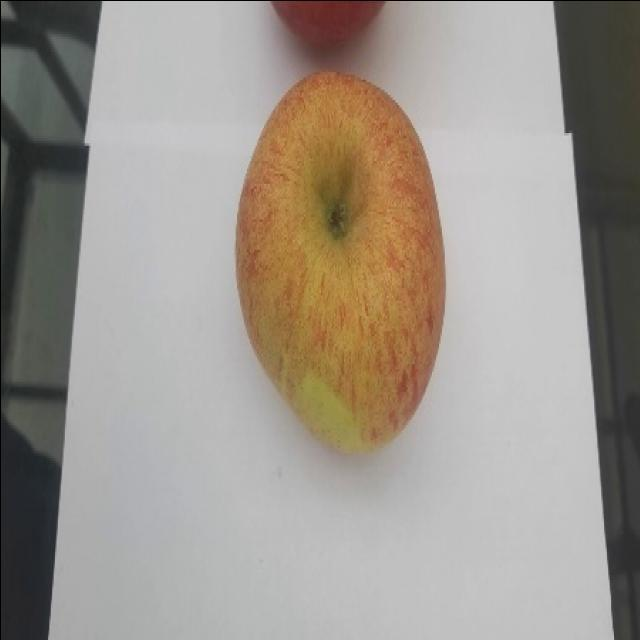Apple: (234, 69, 446, 455)
